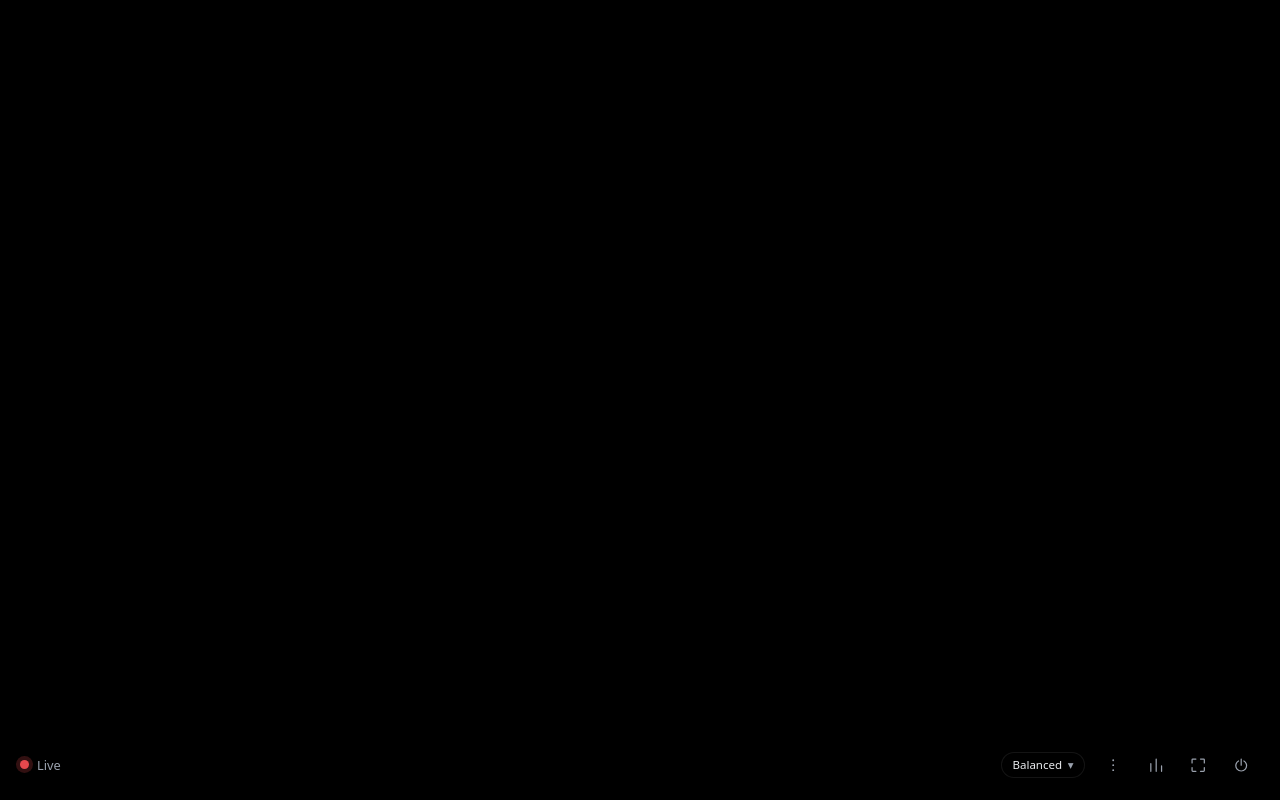
Test: ViewerScreen menu button (touch reachability) › tapping the button again dismisses the menu
Step 1. Click the button named "More options" → (1114, 765), box [1094,746,1133,784]
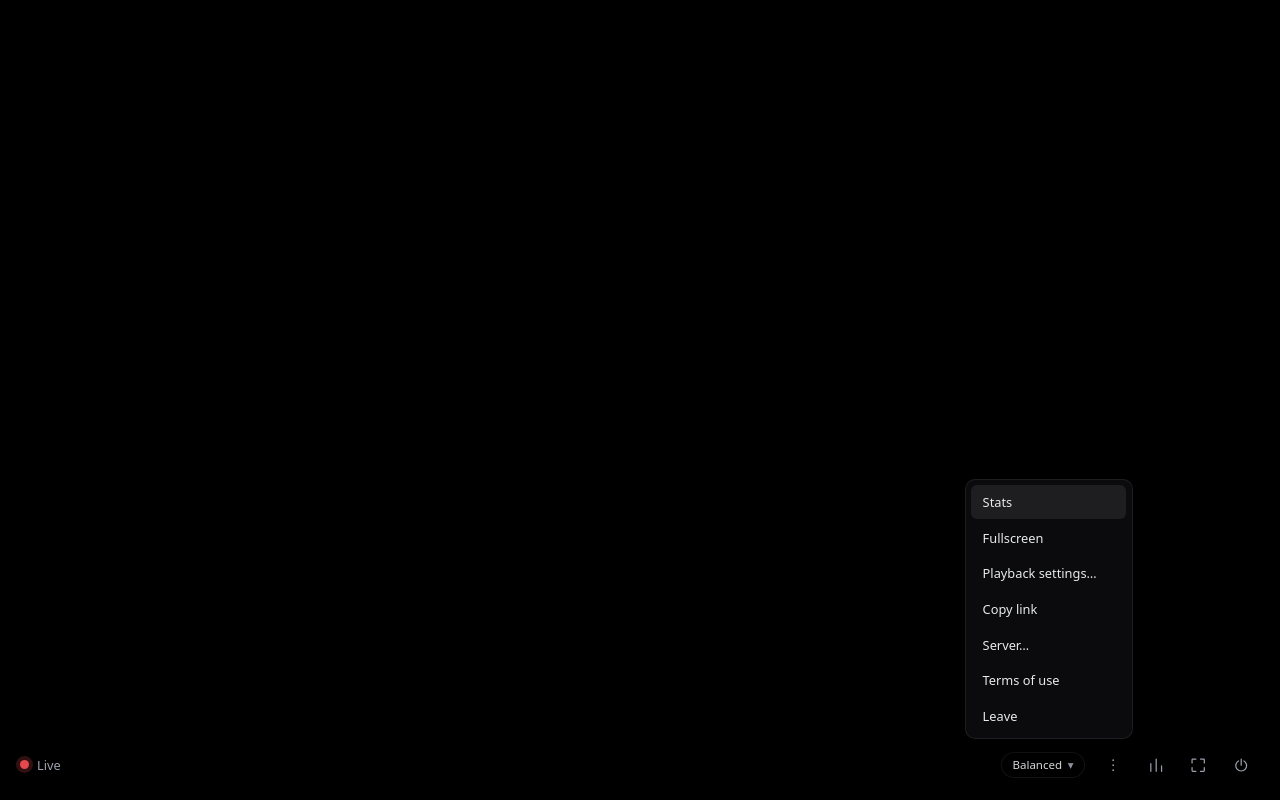
Check: the menu is shown, box [965,479,1133,739]
Step 2. Click the button named "More options" → (1114, 765), box [1094,746,1133,784]
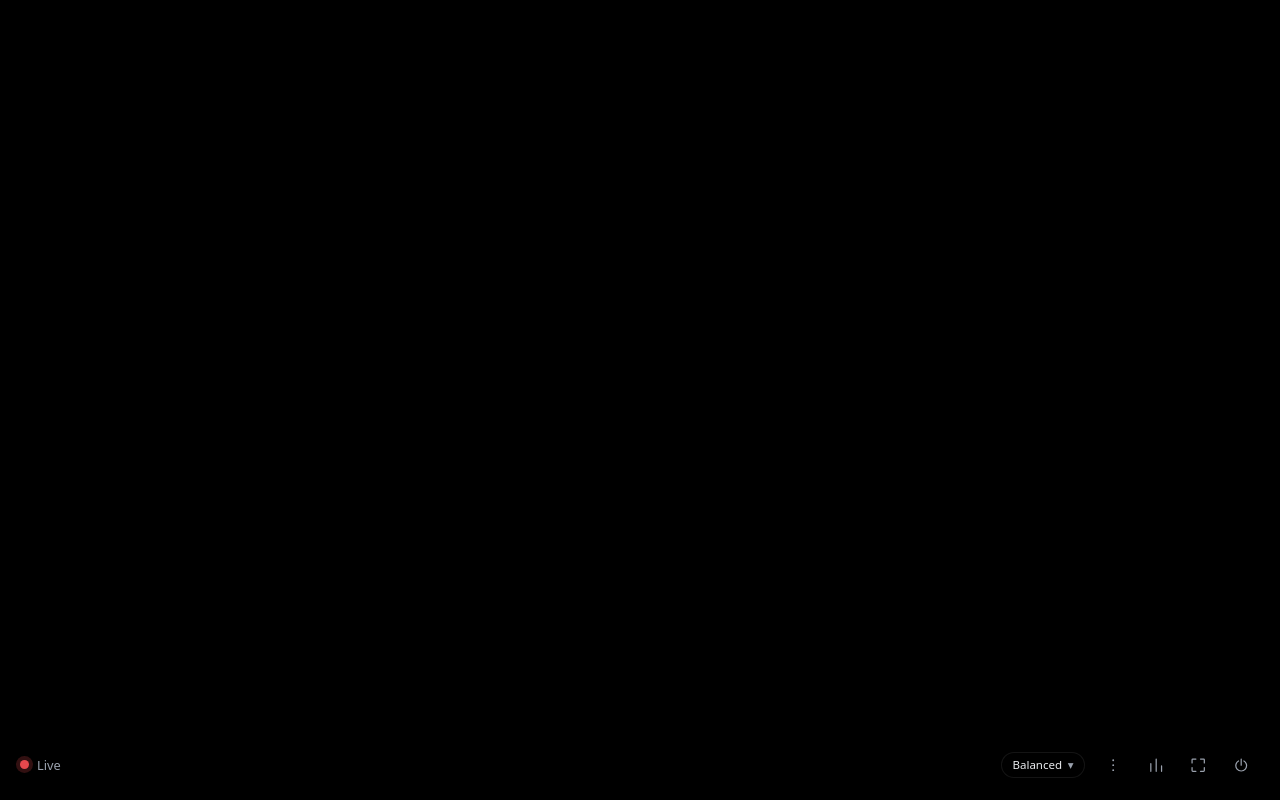
Check: the menu is gone
